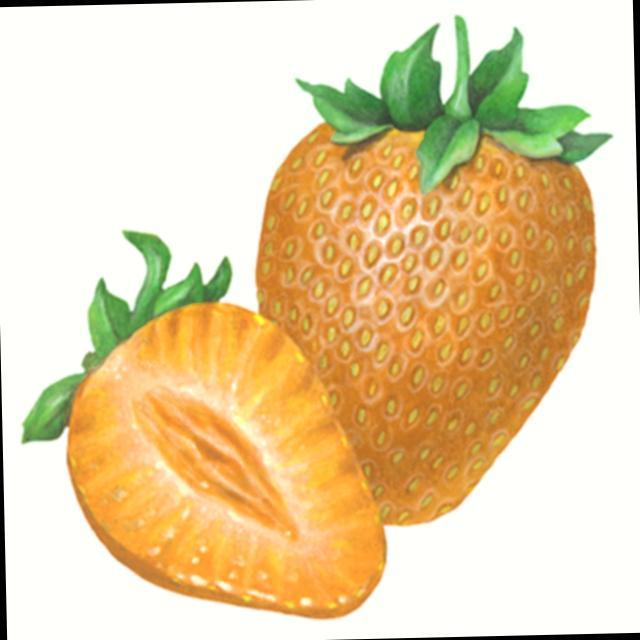strawberry: (256, 18, 608, 524), (22, 231, 385, 618)
